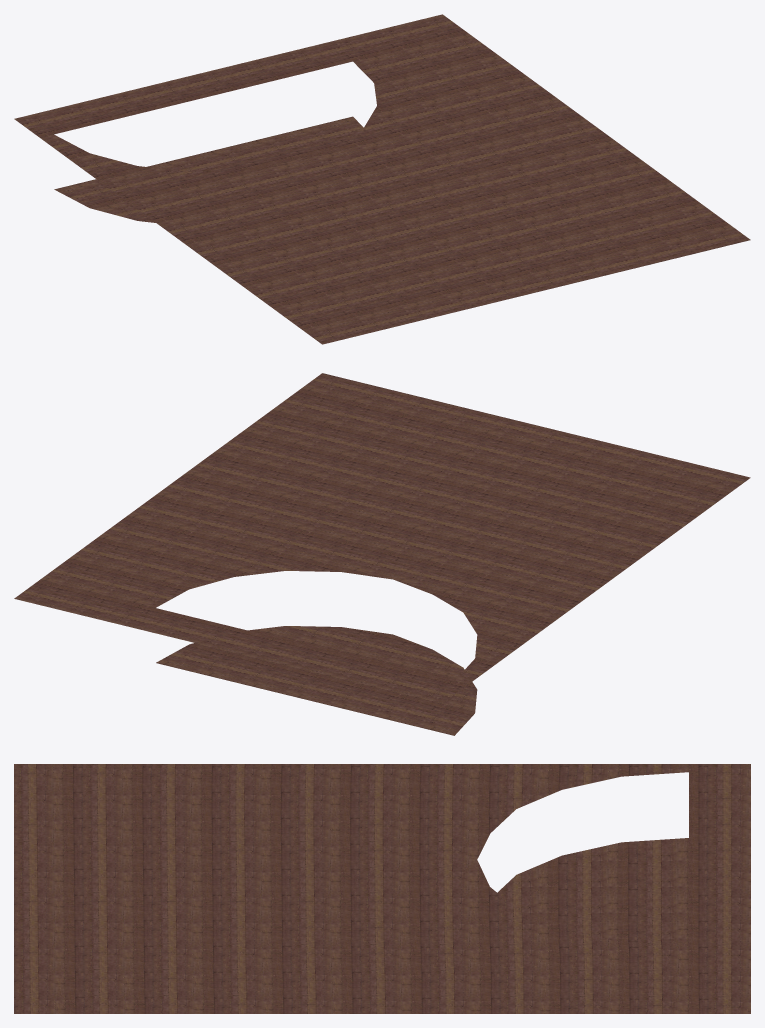
Rendered from fb_baitang_dimian.FBX.
3 renders of one model, top to bottom at view 1: azimuth 30°, elevation 25°; view 2: azimuth 150°, elevation 25°; view 3: azimuth 270°, elevation 25°, orthographic. The views are drawn at different scales.
Visible parts, largest first — view 1: fb_baitang_dimian; view 2: fb_baitang_dimian; view 3: fb_baitang_dimian.
Boxes of the visible parts, <box> form: fb_baitang_dimian: <box>14,14,750,344</box>; fb_baitang_dimian: <box>14,373,750,735</box>; fb_baitang_dimian: <box>14,764,750,1013</box>.
Bounding box in the file's own units: 3800 × 466 × 4736.
